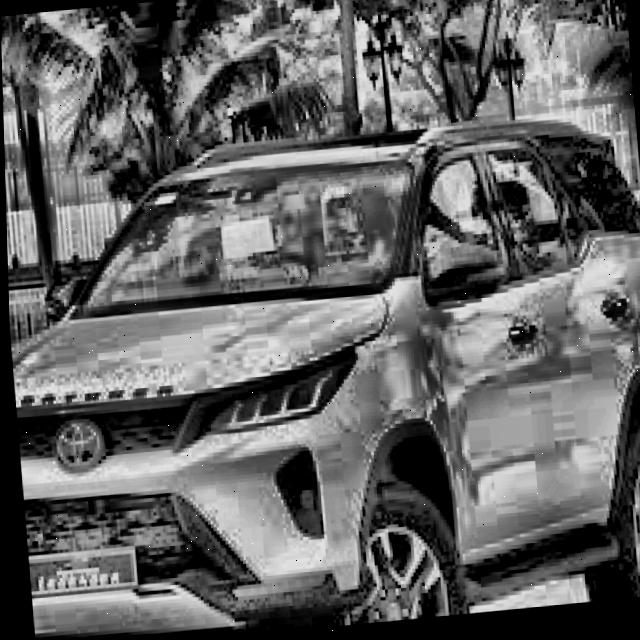light_vehicle: (3, 111, 640, 640)
